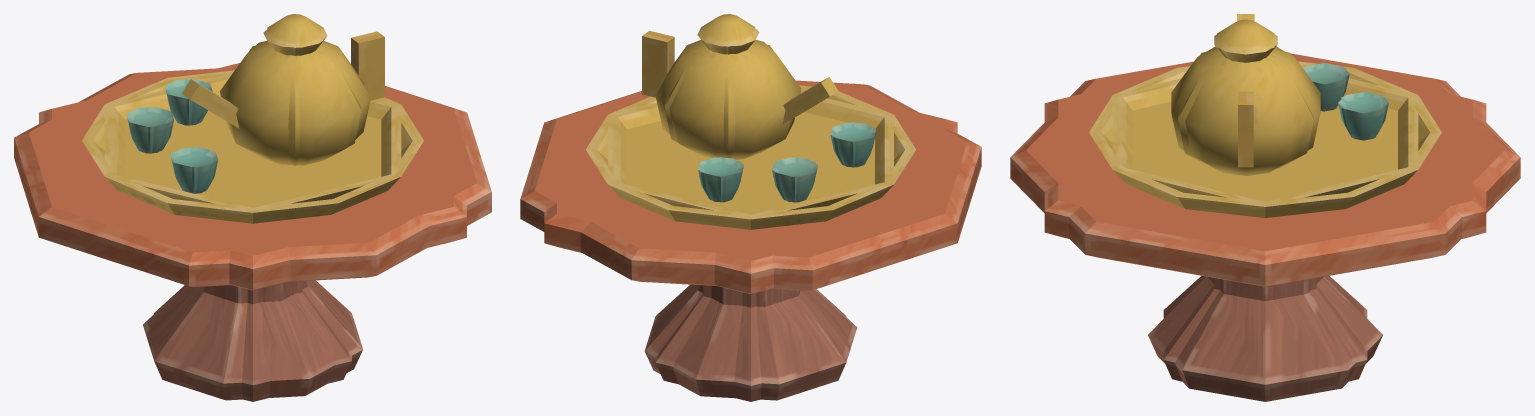
File: tea_table.bundle.fbx
3 views of the same model, side by side, from view 1: azimuth 30°, elevation 25°; view 2: azimuth 150°, elevation 25°; view 3: azimuth 270°, elevation 25° (orthographic). The views are drawn at different scales.
Visible parts, largest first — view 1: tea_table, tea_table_low, tea_table_s04, tea_table_s01, tea_table_s03, tea_table_s00; view 2: tea_table, tea_table_low, tea_table_s00, tea_table_s01, tea_table_s03, tea_table_s04; view 3: tea_table, tea_table_low, tea_table_s01, tea_table_s03, tea_table_s04, tea_table_s00.
Part boxes in pixels (<box>): tea_table: <box>14,14,491,400</box>; tea_table_low: <box>39,14,466,401</box>; tea_table_s04: <box>52,126,335,289</box>; tea_table_s01: <box>242,143,466,401</box>; tea_table_s03: <box>190,63,453,148</box>; tea_table_s00: <box>39,92,185,312</box>; tea_table: <box>520,14,981,400</box>; tea_table_low: <box>544,14,957,401</box>; tea_table_s00: <box>632,214,778,401</box>; tea_table_s01: <box>656,286,840,401</box>; tea_table_s03: <box>544,117,647,251</box>; tea_table_s04: <box>778,98,944,253</box>; tea_table: <box>1010,14,1520,401</box>; tea_table_low: <box>1044,19,1486,381</box>; tea_table_s01: <box>1044,145,1367,358</box>; tea_table_s03: <box>1190,183,1486,249</box>; tea_table_s04: <box>1044,59,1317,145</box>; tea_table_s00: <box>1330,98,1486,315</box>.
Bounding box in the file's own units: 2.6 × 1.96 × 2.6.
1 material, 1 textured.
